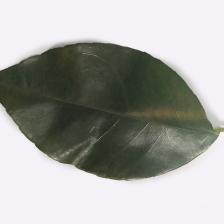healthy: (21, 54, 197, 172)
